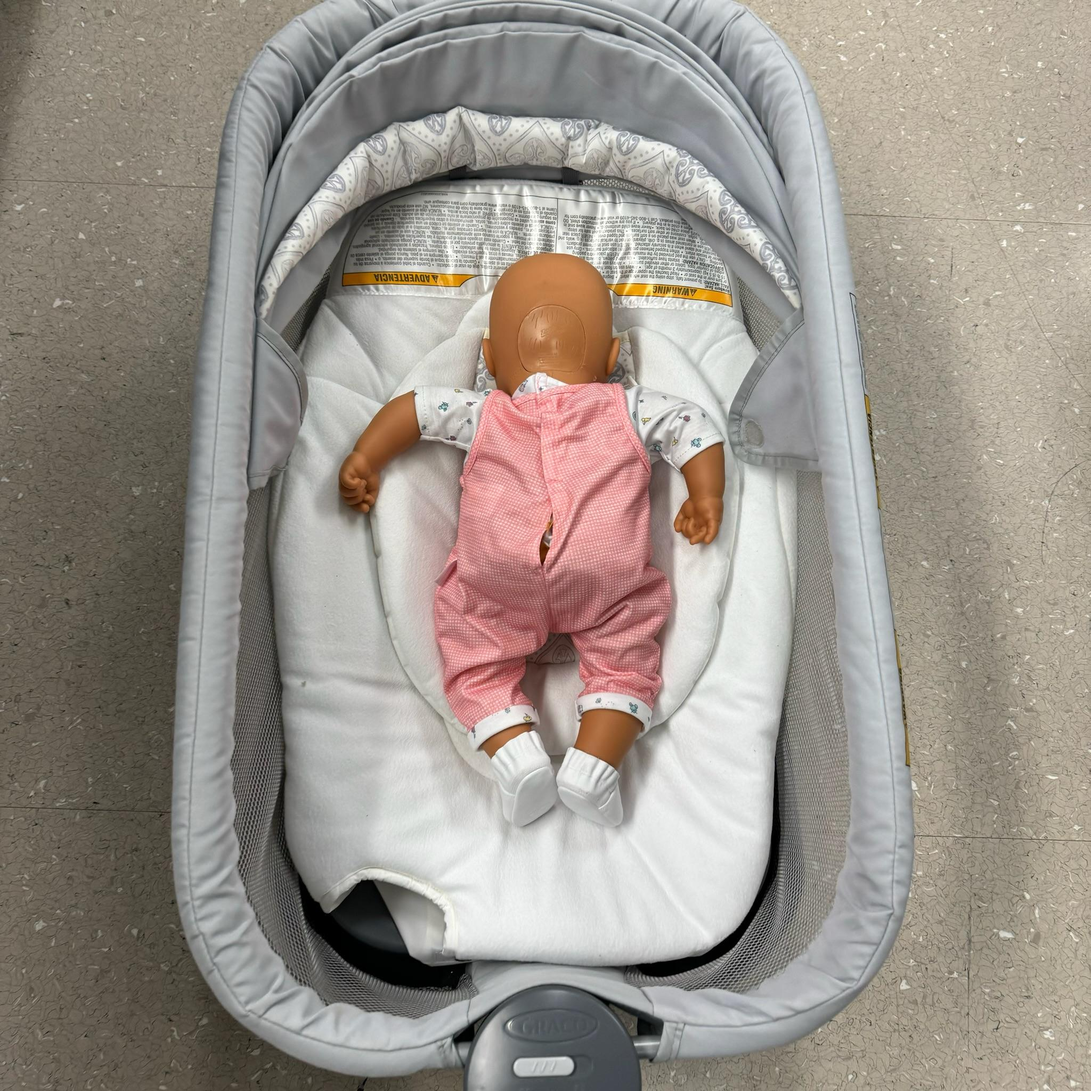baby: (346, 236, 740, 842)
